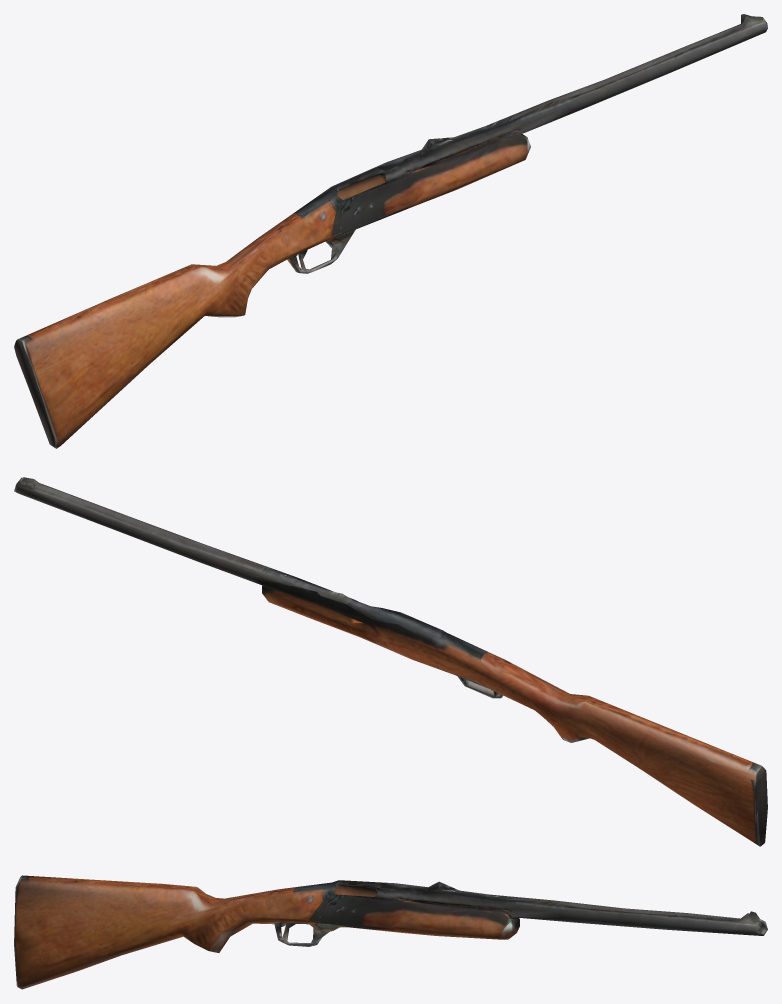
File: shotgun.fbx
The picture shows the model from 3 angles, top to bottom: view 1: azimuth 30°, elevation 25°; view 2: azimuth 150°, elevation 25°; view 3: azimuth 330°, elevation 25°; orthographic projection. The views are drawn at different scales.
Visible parts, largest first — view 1: Mesh1_Mesh1.011; view 2: Mesh1_Mesh1.011; view 3: Mesh1_Mesh1.011.
Boxes of the visible parts, x1,y1,x2,y2 form: Mesh1_Mesh1.011: (14,14,767,448); Mesh1_Mesh1.011: (14,477,767,846); Mesh1_Mesh1.011: (14,875,767,989).
Size of the model in its own units: 200 by 58.05 by 19.03.
1 material, 1 textured.
